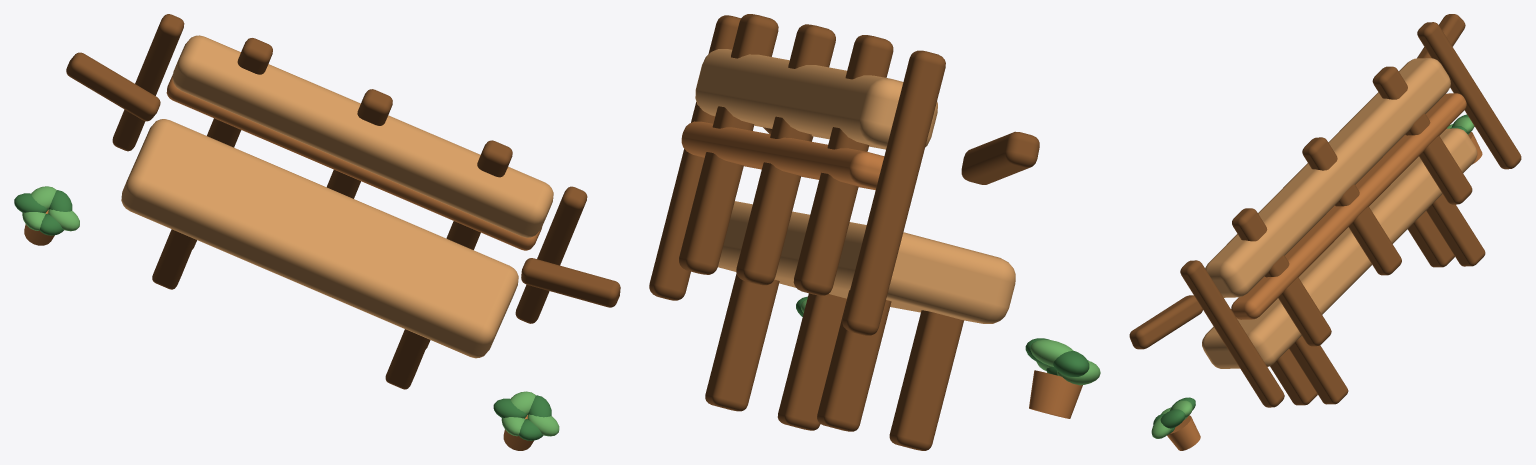
Rendered from bench.glb.
3 renders of one model, left to right at view 1: azimuth 30°, elevation 25°; view 2: azimuth 150°, elevation 25°; view 3: azimuth 270°, elevation 25°, orthographic. The views are drawn at different scales.
Bounding box in the file's own units: 1.41 × 1.22 × 1.3.
